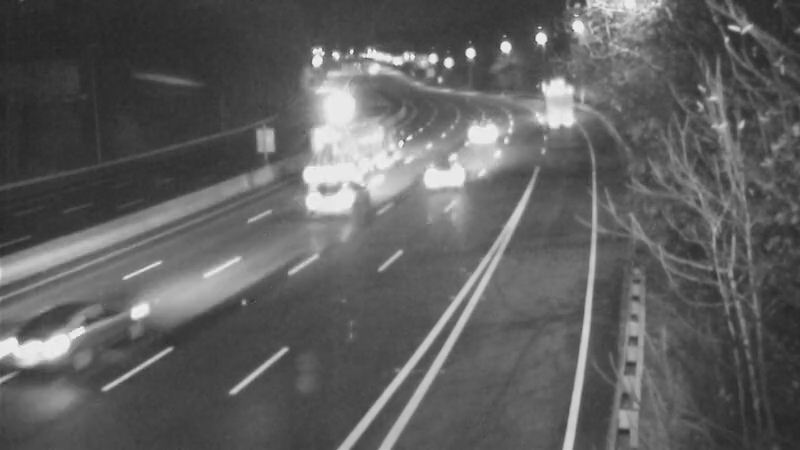vehicle: (37, 271, 147, 381), (413, 132, 493, 212), (293, 160, 373, 240), (523, 75, 573, 125), (457, 107, 507, 157), (321, 116, 371, 166), (314, 81, 364, 131)
